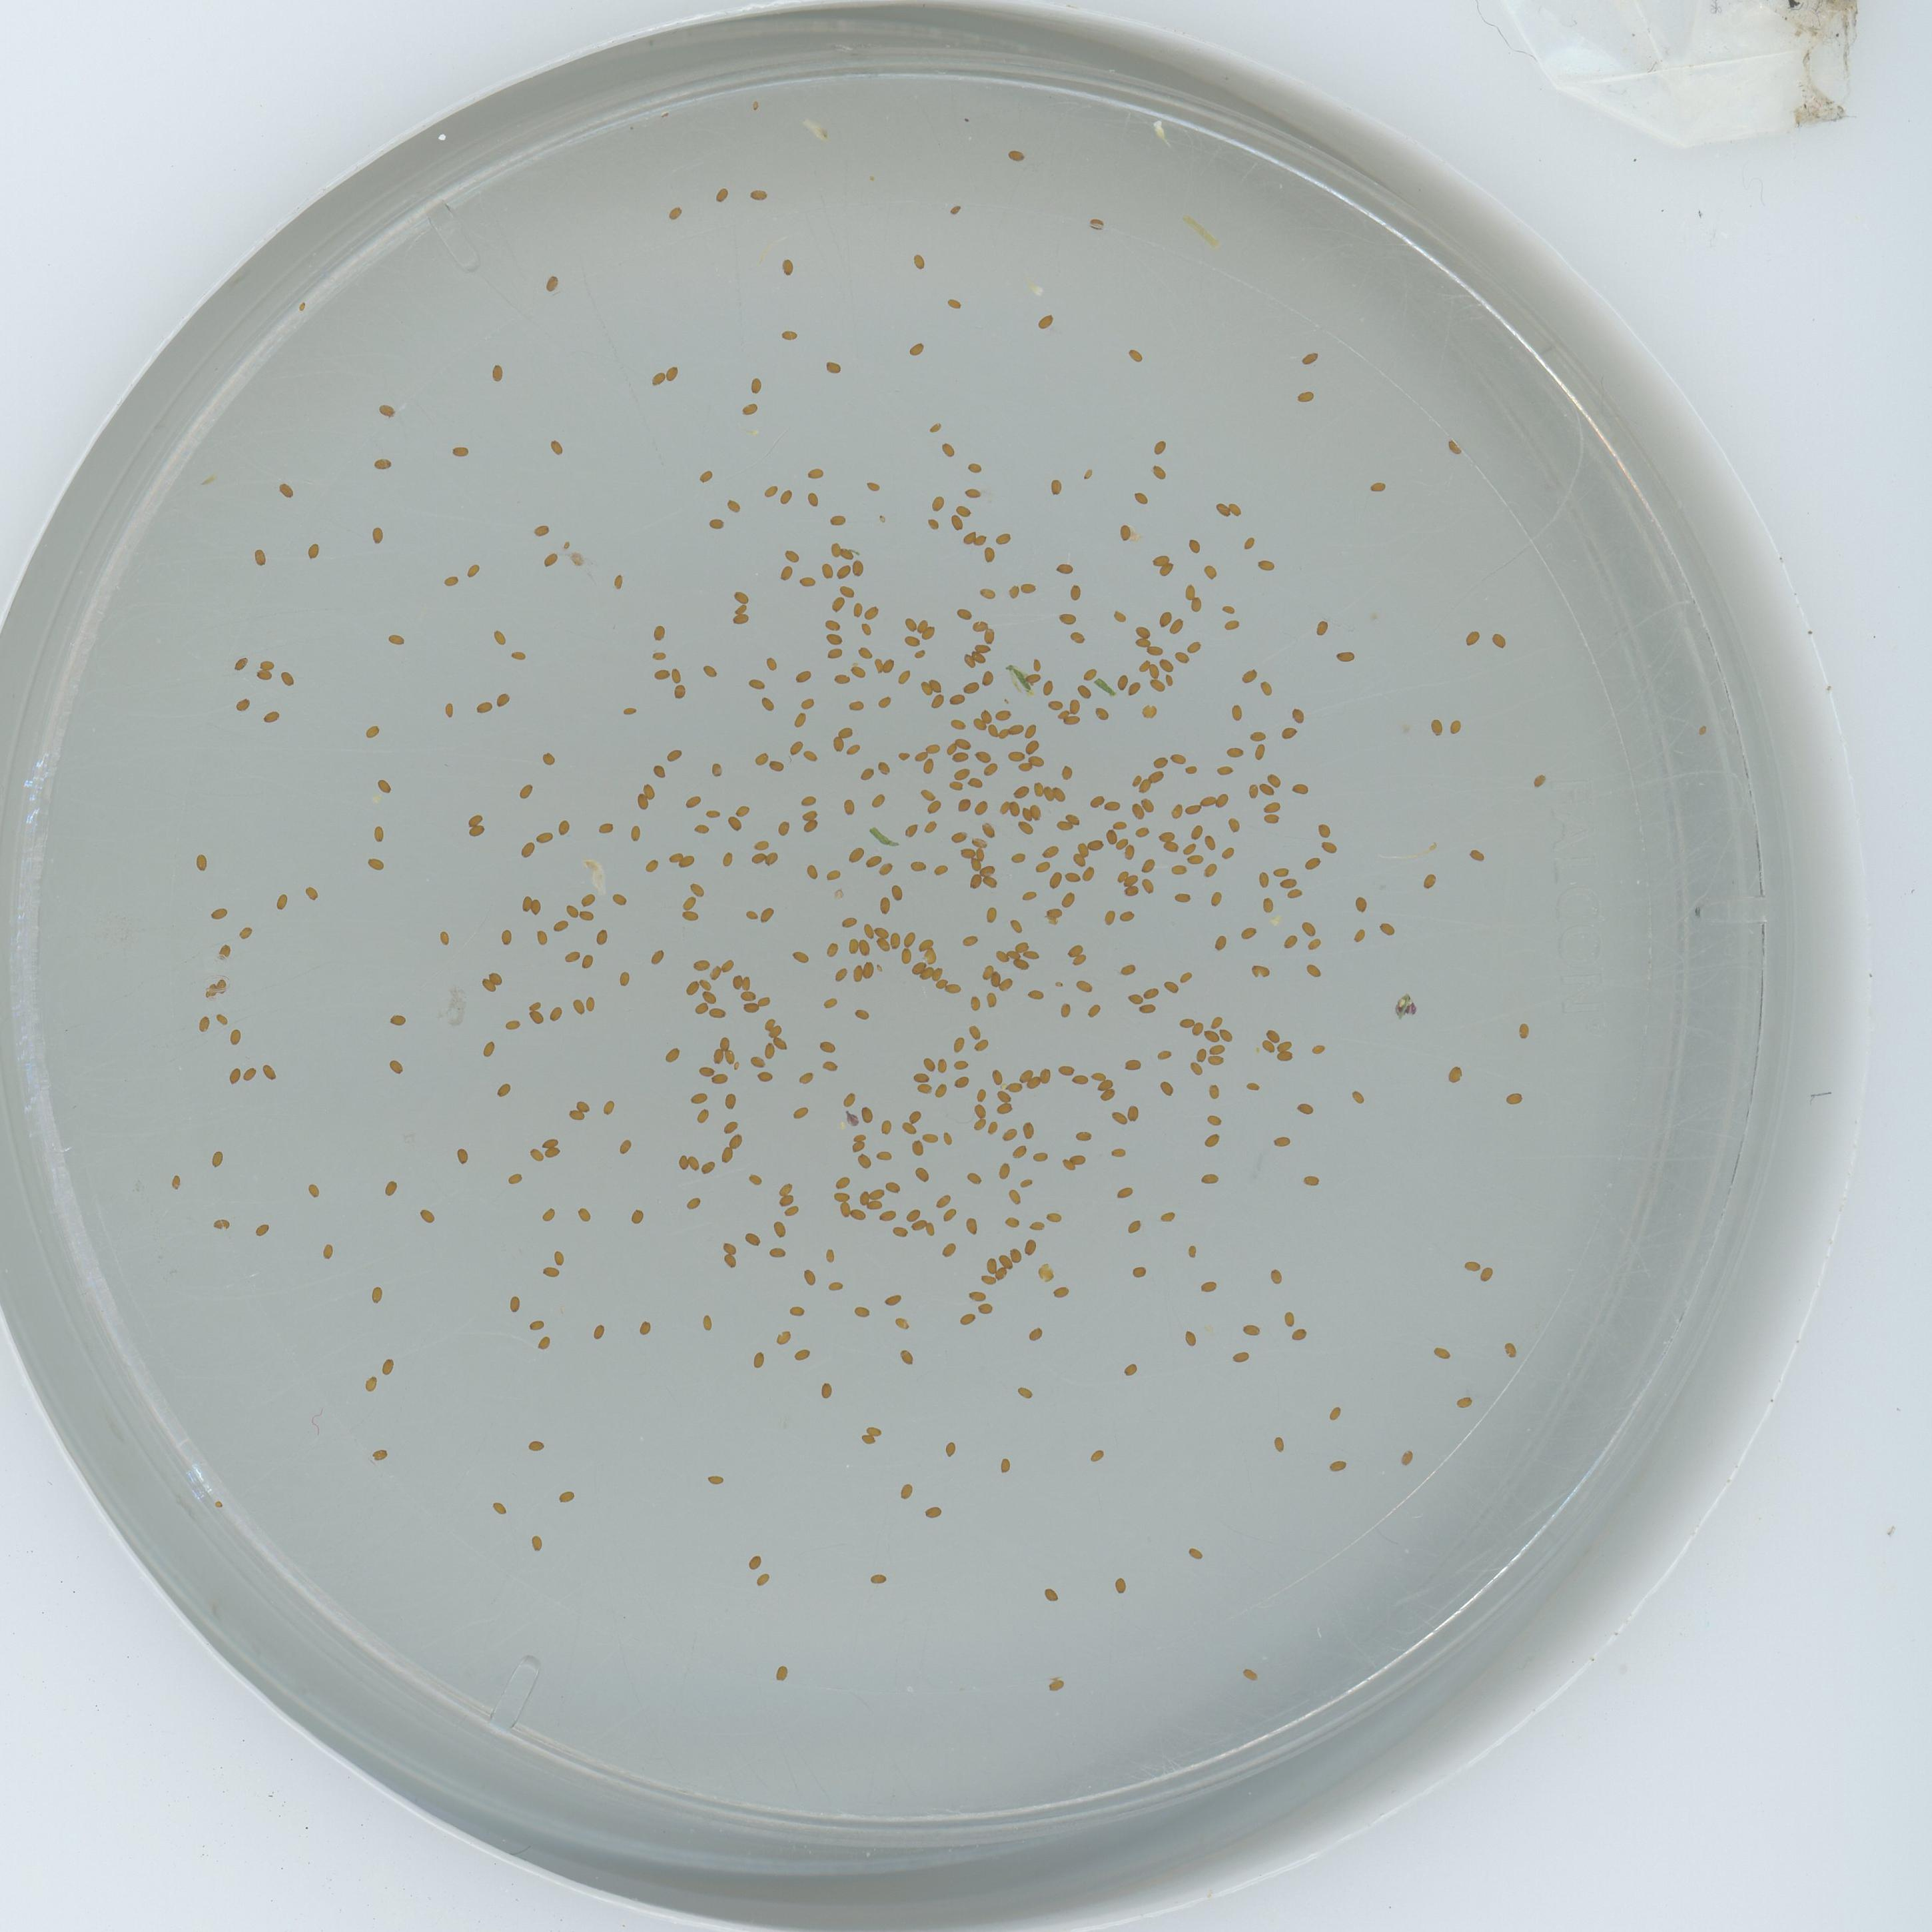seed: (589, 927, 612, 947), (207, 902, 228, 922), (847, 844, 867, 865), (800, 1265, 821, 1284), (1039, 840, 1060, 860), (1033, 1261, 1054, 1281), (747, 375, 766, 395), (842, 796, 862, 816), (978, 582, 998, 602), (1155, 1076, 1175, 1095), (1445, 1063, 1465, 1083), (248, 548, 269, 566), (518, 840, 538, 858), (750, 184, 770, 202), (929, 494, 947, 513), (191, 853, 209, 872), (865, 853, 885, 870), (876, 895, 895, 913), (844, 936, 862, 955), (488, 363, 506, 382), (771, 1217, 791, 1235), (885, 1290, 904, 1307), (775, 1327, 794, 1345), (479, 1037, 499, 1054), (380, 1178, 400, 1196), (993, 704, 1012, 722), (1056, 892, 1076, 909), (1463, 628, 1481, 648), (1300, 347, 1320, 364), (1318, 839, 1338, 856), (1090, 704, 1109, 722), (1139, 856, 1157, 876), (1010, 782, 1030, 800), (980, 821, 998, 840), (955, 605, 975, 623), (955, 798, 975, 816), (1123, 1100, 1141, 1120), (1108, 1108, 1127, 1125), (1198, 1276, 1217, 1293), (826, 648, 847, 663), (1155, 828, 1177, 844), (533, 520, 550, 538), (908, 338, 925, 356), (278, 669, 295, 686), (819, 561, 837, 579), (234, 695, 251, 713), (272, 893, 290, 911), (840, 913, 858, 931), (651, 623, 669, 640), (947, 690, 964, 708), (497, 927, 515, 945), (370, 824, 387, 842), (665, 747, 683, 764), (564, 947, 582, 964), (366, 855, 384, 872), (598, 819, 616, 837), (651, 947, 669, 964), (517, 782, 534, 800), (778, 487, 796, 504), (492, 628, 510, 646), (775, 819, 793, 837), (547, 437, 564, 455), (667, 202, 685, 219), (794, 1345, 812, 1362), (504, 1014, 522, 1031), (547, 1003, 564, 1021), (750, 1350, 768, 1368), (379, 1357, 396, 1375), (747, 1552, 764, 1569), (258, 1060, 276, 1077), (745, 1228, 763, 1246), (939, 1240, 957, 1258), (709, 1003, 727, 1021), (527, 1534, 545, 1552), (253, 1219, 271, 1237), (366, 1286, 384, 1304), (770, 1242, 787, 1260), (924, 1502, 941, 1520), (663, 1046, 681, 1063), (1247, 727, 1265, 745), (1200, 862, 1217, 879), (1067, 628, 1085, 646), (1428, 718, 1445, 736), (1288, 706, 1306, 724), (1265, 770, 1283, 787), (1258, 895, 1276, 913), (1228, 704, 1246, 722), (1304, 855, 1322, 872), (1180, 582, 1198, 600), (1054, 559, 1072, 577), (1295, 387, 1313, 405), (1062, 870, 1079, 888), (1150, 437, 1168, 455), (980, 547, 998, 564), (978, 669, 996, 686), (1313, 619, 1330, 637), (1115, 524, 1132, 541), (1281, 931, 1299, 948), (973, 747, 991, 764), (1421, 874, 1438, 892), (1185, 823, 1203, 840), (1111, 1576, 1129, 1594), (1010, 1141, 1028, 1159), (1205, 1081, 1223, 1099), (989, 1065, 1007, 1083), (996, 1161, 1014, 1178), (1123, 1056, 1141, 1074), (966, 993, 984, 1010), (1021, 1237, 1039, 1254), (1203, 1129, 1221, 1146), (1272, 1131, 1290, 1148), (1182, 1329, 1200, 1346), (1201, 1169, 1219, 1187), (984, 1116, 1001, 1134), (959, 1311, 977, 1329), (685, 794, 704, 810), (230, 656, 249, 672), (626, 826, 646, 842), (904, 1203, 924, 1219), (361, 1375, 380, 1391), (885, 1177, 904, 1192), (504, 1295, 524, 1311), (494, 1081, 513, 1097), (628, 1207, 648, 1223), (690, 1090, 709, 1106), (1224, 743, 1244, 759), (1200, 835, 1219, 851), (1336, 648, 1355, 663), (1327, 1458, 1346, 1474), (1049, 1283, 1069, 1299), (840, 582, 858, 598), (824, 616, 842, 632), (948, 717, 966, 732), (303, 885, 320, 901), (856, 644, 874, 660), (754, 837, 771, 853), (851, 663, 869, 679), (828, 513, 846, 529), (870, 793, 888, 809), (800, 695, 817, 711), (363, 724, 380, 740), (681, 895, 699, 911), (368, 527, 386, 543), (807, 464, 824, 479), (902, 931, 920, 947), (759, 906, 775, 924), (763, 483, 780, 499), (794, 947, 812, 962), (580, 892, 596, 909), (651, 763, 669, 778), (704, 807, 722, 823), (830, 596, 847, 612), (734, 801, 752, 817), (929, 694, 947, 709), (702, 663, 720, 679), (787, 740, 805, 755), (536, 830, 554, 846), (644, 858, 662, 874), (715, 186, 732, 202), (379, 400, 395, 418), (476, 699, 494, 715), (494, 692, 511, 708), (748, 676, 766, 692), (782, 257, 798, 274), (784, 547, 801, 563), (839, 724, 856, 740), (793, 713, 810, 729), (375, 778, 393, 794), (741, 400, 759, 416), (451, 442, 469, 458), (909, 858, 927, 874), (467, 812, 485, 828), (387, 632, 405, 648), (373, 455, 391, 471), (897, 669, 915, 685), (947, 515, 964, 531), (543, 274, 561, 290), (541, 550, 559, 566), (826, 632, 844, 648), (278, 481, 294, 499), (725, 817, 743, 833), (533, 929, 550, 945), (938, 441, 955, 456), (778, 564, 796, 580), (672, 683, 690, 699), (805, 490, 823, 506), (835, 564, 853, 580), (909, 253, 927, 269), (743, 906, 761, 922), (826, 939, 842, 957), (847, 743, 865, 759), (679, 853, 697, 869), (826, 540, 844, 556), (915, 747, 931, 764), (722, 1116, 740, 1132), (913, 1166, 931, 1182), (695, 1106, 713, 1122), (212, 1012, 230, 1028), (527, 1437, 545, 1453), (793, 1102, 810, 1118), (534, 1334, 552, 1350), (559, 1486, 575, 1504), (697, 1062, 715, 1077), (901, 1120, 918, 1136), (711, 1069, 729, 1085), (823, 994, 840, 1010), (708, 1047, 725, 1063), (908, 1108, 925, 1123), (755, 1571, 771, 1589), (908, 1139, 925, 1155), (241, 1063, 257, 1081), (872, 1571, 890, 1587), (775, 1665, 793, 1681), (934, 1191, 952, 1207), (591, 1322, 607, 1339), (757, 1069, 775, 1085), (897, 1483, 915, 1499), (862, 1104, 879, 1120), (541, 1263, 559, 1279), (819, 1382, 837, 1398), (372, 1445, 387, 1463), (225, 1065, 241, 1083), (418, 1207, 435, 1223), (211, 1214, 228, 1230), (702, 987, 720, 1003), (529, 1315, 545, 1332), (750, 1053, 768, 1069), (722, 1092, 740, 1108), (819, 1037, 837, 1053), (207, 1150, 225, 1166), (453, 1146, 471, 1162), (600, 1099, 617, 1115), (577, 1205, 593, 1223), (617, 1136, 635, 1152), (835, 1171, 853, 1187), (1003, 584, 1021, 600), (1173, 890, 1191, 906), (1168, 617, 1185, 633), (1019, 579, 1037, 594), (1023, 740, 1040, 755), (1279, 725, 1297, 741), (1157, 656, 1175, 672), (1134, 623, 1152, 639), (1219, 846, 1237, 862), (993, 529, 1010, 545), (1352, 895, 1369, 911), (1150, 464, 1166, 481), (1046, 478, 1063, 494), (1299, 920, 1316, 936), (1270, 863, 1288, 879), (1056, 610, 1074, 626), (1125, 345, 1143, 361), (1350, 927, 1368, 943), (1490, 632, 1507, 648), (1056, 764, 1074, 780), (1065, 586, 1083, 602), (1180, 840, 1198, 856), (1008, 851, 1026, 867), (1079, 665, 1097, 681), (1214, 793, 1231, 809), (1031, 860, 1049, 876), (1256, 556, 1274, 571), (1069, 853, 1086, 869), (1005, 748, 1023, 764), (1116, 908, 1134, 924), (1171, 651, 1189, 667), (1221, 617, 1238, 633), (980, 761, 998, 777), (1007, 147, 1024, 163), (1065, 941, 1083, 957), (1292, 780, 1309, 796), (1168, 750, 1185, 766), (980, 626, 998, 642), (1161, 842, 1178, 858), (1185, 853, 1203, 869), (1261, 800, 1279, 816), (1238, 667, 1256, 683), (1012, 936, 1030, 952), (1039, 679, 1056, 695), (1468, 847, 1486, 863), (1315, 823, 1332, 839), (984, 906, 1000, 924), (1155, 610, 1173, 626), (1212, 501, 1230, 517), (1007, 918, 1024, 934), (1139, 704, 1157, 720), (1046, 874, 1063, 890), (1224, 817, 1242, 833), (1212, 934, 1230, 950), (1063, 810, 1081, 826), (1258, 782, 1276, 798), (1102, 800, 1120, 816), (1304, 936, 1322, 952), (1445, 437, 1461, 455), (1115, 1182, 1132, 1198), (1398, 1449, 1415, 1465), (1207, 1012, 1224, 1028), (1019, 1120, 1037, 1136), (1026, 985, 1044, 1001), (1157, 1207, 1175, 1223), (1242, 1320, 1260, 1336), (1000, 1123, 1017, 1139), (1230, 1348, 1247, 1364), (975, 1300, 993, 1316), (1016, 1384, 1033, 1399), (1040, 1587, 1058, 1603), (1267, 1267, 1284, 1283), (1007, 1187, 1024, 1203), (1433, 1345, 1451, 1361), (996, 1456, 1014, 1472), (1131, 1263, 1148, 1279), (1506, 1088, 1523, 1104), (1058, 1062, 1076, 1077), (1205, 1109, 1223, 1125), (1479, 1265, 1495, 1283), (1295, 1099, 1313, 1115), (1270, 1435, 1286, 1453), (1072, 1072, 1090, 1088), (1302, 1171, 1320, 1187), (1069, 1150, 1086, 1166), (1026, 1323, 1042, 1341), (1046, 1675, 1063, 1691), (1309, 1037, 1325, 1054), (1086, 1447, 1104, 1463), (909, 961, 927, 977), (580, 952, 600, 966), (833, 1187, 853, 1201), (879, 1207, 899, 1221), (1168, 865, 1187, 879), (1150, 550, 1169, 564), (1145, 642, 1164, 656), (1122, 874, 1141, 888), (1146, 681, 1166, 695), (1046, 906, 1065, 920), (994, 1100, 1014, 1115), (801, 793, 817, 809), (708, 515, 724, 531), (651, 648, 667, 663), (764, 656, 780, 672), (699, 467, 715, 483), (235, 924, 251, 939), (860, 623, 876, 639), (441, 702, 456, 718), (878, 761, 893, 777), (904, 823, 920, 839), (860, 766, 876, 782), (556, 821, 571, 837), (943, 740, 959, 755), (867, 603, 883, 619), (709, 763, 725, 778), (853, 561, 869, 577), (766, 851, 782, 867), (304, 543, 320, 559), (796, 667, 812, 683), (610, 575, 626, 591), (734, 587, 750, 603), (899, 948, 915, 964), (867, 478, 883, 494), (924, 821, 939, 837), (952, 828, 968, 844), (832, 738, 847, 754), (805, 865, 821, 881), (690, 881, 706, 897), (665, 364, 681, 380), (633, 794, 649, 810), (754, 750, 770, 766), (890, 885, 906, 901), (800, 573, 816, 589), (849, 602, 865, 617), (510, 648, 525, 663), (761, 697, 777, 713), (826, 869, 842, 885), (932, 862, 948, 878), (925, 740, 941, 755), (580, 908, 596, 924), (782, 326, 798, 341), (651, 370, 667, 386), (669, 667, 685, 683), (893, 1223, 909, 1238), (193, 1016, 209, 1031), (941, 1440, 957, 1456), (304, 1182, 320, 1198), (855, 1005, 870, 1021), (858, 1152, 874, 1168), (529, 1008, 545, 1024), (318, 1242, 334, 1258), (389, 1010, 405, 1026), (824, 1247, 840, 1263), (637, 1318, 653, 1334), (226, 1028, 242, 1044), (869, 1419, 885, 1435), (541, 1207, 557, 1223), (922, 1056, 938, 1072), (492, 1499, 508, 1514), (778, 1178, 794, 1194), (490, 970, 506, 985), (720, 1146, 736, 1162), (842, 1088, 858, 1104), (550, 1249, 566, 1265), (789, 1302, 805, 1318), (584, 994, 600, 1010), (387, 1056, 403, 1072), (685, 978, 701, 994), (508, 1169, 524, 1185), (941, 1207, 957, 1223), (899, 1348, 915, 1364), (722, 1253, 738, 1269), (934, 1083, 950, 1099), (828, 1276, 844, 1292), (674, 1155, 690, 1171), (924, 1219, 939, 1235), (708, 1470, 724, 1486), (701, 1315, 717, 1330), (920, 966, 936, 982), (1021, 888, 1037, 904), (1201, 563, 1217, 579), (1185, 639, 1201, 655), (1219, 602, 1235, 617), (1185, 538, 1201, 554), (1168, 803, 1184, 819), (1139, 879, 1155, 895), (1023, 724, 1039, 740), (1100, 909, 1116, 925), (1378, 920, 1394, 936), (1037, 311, 1053, 327), (1079, 867, 1095, 883), (1254, 872, 1270, 888), (1111, 609, 1127, 625), (1017, 821, 1033, 837), (1369, 478, 1385, 494), (1447, 718, 1463, 734), (1200, 793, 1215, 809), (1113, 674, 1129, 690), (1253, 745, 1269, 761), (1088, 793, 1104, 809), (973, 800, 989, 816), (1134, 658, 1150, 674), (1240, 924, 1256, 939), (1131, 488, 1146, 504), (1088, 837, 1104, 853), (1007, 720, 1023, 736), (1129, 803, 1145, 819), (966, 874, 982, 890), (1184, 801, 1200, 817), (1127, 681, 1143, 697), (1244, 784, 1260, 800), (1086, 214, 1102, 230), (1053, 786, 1069, 801), (1530, 773, 1546, 789), (1111, 869, 1127, 885), (1463, 1256, 1479, 1272), (1281, 1309, 1297, 1325), (998, 975, 1014, 991), (1017, 1173, 1033, 1189), (968, 1024, 984, 1040), (1085, 1001, 1100, 1017), (1187, 1060, 1203, 1076), (1187, 1545, 1203, 1560), (1456, 1392, 1472, 1408), (1026, 1217, 1042, 1233), (1122, 1361, 1138, 1376), (1516, 1021, 1532, 1037), (1109, 1143, 1125, 1159), (1327, 1405, 1343, 1421), (971, 1100, 987, 1116), (970, 1284, 985, 1300), (1350, 1088, 1366, 1104), (1125, 1217, 1141, 1233), (1290, 1325, 1306, 1341), (966, 1169, 982, 1185), (1026, 1074, 1042, 1090), (1502, 1341, 1518, 1357), (1242, 1665, 1258, 1681), (878, 863, 895, 878), (610, 893, 628, 908), (442, 573, 460, 587), (803, 821, 821, 835), (653, 667, 671, 681), (824, 359, 842, 373), (262, 709, 280, 724), (840, 545, 858, 559), (732, 612, 750, 626), (740, 989, 757, 1003), (543, 1136, 561, 1150), (895, 1316, 913, 1330), (722, 1238, 740, 1253), (823, 1058, 840, 1072), (747, 1171, 764, 1185), (743, 1000, 761, 1014), (878, 1146, 895, 1161), (853, 1141, 870, 1155), (851, 1207, 869, 1221), (800, 1069, 817, 1083), (855, 1304, 872, 1318), (685, 1194, 702, 1208), (950, 1037, 964, 1054), (862, 962, 876, 980), (1148, 771, 1166, 786), (1122, 886, 1139, 901), (1046, 697, 1063, 711), (1150, 754, 1168, 768), (1074, 683, 1092, 697), (1187, 598, 1205, 612), (1111, 817, 1129, 832), (1132, 637, 1150, 651), (962, 529, 977, 547), (1012, 957, 1030, 971), (1161, 978, 1178, 993), (1138, 1001, 1155, 1016), (1019, 1065, 1033, 1083), (1276, 1047, 1293, 1062), (1258, 1039, 1276, 1053), (1030, 1148, 1047, 1162), (1244, 1077, 1261, 1092), (1056, 1157, 1074, 1171), (1693, 724, 1711, 738), (1005, 948, 1023, 962), (961, 844, 975, 862), (1030, 805, 1044, 823), (993, 1088, 1012, 1100), (720, 853, 736, 867), (947, 295, 962, 310), (849, 699, 865, 713), (801, 809, 817, 823), (904, 633, 920, 648), (750, 853, 766, 867), (925, 517, 941, 531), (541, 752, 557, 766), (878, 695, 893, 709), (683, 911, 699, 925), (258, 656, 274, 671), (902, 617, 918, 632), (927, 419, 941, 435), (947, 780, 962, 794), (925, 801, 941, 816), (725, 499, 741, 513), (644, 782, 658, 798), (564, 904, 580, 918), (437, 931, 453, 945), (554, 918, 570, 932), (531, 899, 545, 915), (803, 750, 819, 764), (464, 563, 479, 577), (770, 759, 786, 773), (694, 823, 709, 837), (920, 787, 936, 801), (931, 678, 945, 694), (255, 671, 271, 685), (216, 943, 232, 957), (925, 948, 941, 962), (885, 658, 899, 674), (918, 681, 934, 695), (835, 672, 851, 686), (667, 849, 683, 863), (954, 766, 970, 780), (897, 750, 913, 764), (862, 922, 876, 938), (952, 750, 968, 764), (876, 924, 890, 939), (623, 704, 639, 718), (890, 931, 904, 947), (732, 603, 748, 617), (469, 826, 485, 840), (922, 759, 936, 775), (911, 648, 927, 662), (920, 626, 936, 640), (913, 1070, 929, 1085), (694, 1000, 709, 1014), (527, 996, 543, 1010), (916, 1083, 932, 1097), (718, 1033, 734, 1047), (729, 975, 743, 991), (479, 977, 495, 991), (708, 966, 724, 980), (763, 1042, 778, 1056), (577, 1099, 593, 1113), (570, 998, 584, 1014), (881, 1118, 897, 1132), (924, 1129, 939, 1143), (529, 1146, 545, 1161), (568, 1108, 584, 1122), (955, 1074, 970, 1090), (702, 1157, 718, 1171), (617, 971, 633, 985), (775, 1035, 791, 1049), (936, 1056, 950, 1072), (939, 1132, 955, 1146), (729, 1132, 745, 1146), (837, 1203, 853, 1217), (851, 966, 865, 982), (688, 1155, 702, 1171), (168, 1173, 182, 1189), (780, 1192, 796, 1207), (934, 977, 950, 991), (202, 984, 216, 1000), (1215, 764, 1231, 778), (1141, 798, 1157, 812), (1240, 536, 1256, 550), (1132, 826, 1148, 840), (1100, 830, 1116, 844), (1207, 893, 1223, 908), (1258, 681, 1274, 695), (966, 460, 982, 474), (966, 487, 982, 501), (1263, 814, 1279, 828), (1182, 763, 1198, 777), (966, 777, 982, 791), (1067, 699, 1083, 713), (1028, 656, 1044, 671), (993, 950, 1008, 964), (1228, 501, 1244, 515), (970, 718, 985, 732), (971, 617, 987, 632), (1028, 754, 1044, 768), (1077, 465, 1093, 479), (1129, 773, 1143, 789), (1031, 782, 1046, 798), (1040, 786, 1056, 800), (970, 835, 985, 849), (1122, 846, 1138, 860), (978, 708, 993, 724), (1191, 1047, 1207, 1062), (1056, 1003, 1072, 1017), (1074, 978, 1090, 993), (1003, 1214, 1019, 1228), (1039, 1067, 1053, 1083), (1141, 984, 1157, 998), (1304, 966, 1320, 980), (1207, 1053, 1223, 1067), (1074, 1127, 1090, 1141), (1177, 970, 1192, 984), (1044, 1208, 1060, 1223), (980, 1272, 996, 1286), (1265, 1026, 1281, 1040), (1185, 1246, 1201, 1260), (1125, 991, 1141, 1005), (985, 993, 1001, 1007), (973, 1037, 989, 1051), (1253, 964, 1269, 978), (966, 1217, 980, 1233), (1155, 1046, 1171, 1060), (1177, 1014, 1192, 1028), (1090, 1069, 1106, 1083), (998, 1253, 1012, 1269), (1008, 1247, 1023, 1263), (980, 966, 996, 980), (971, 649, 985, 665), (996, 801, 1012, 816), (518, 895, 531, 913), (918, 936, 936, 948), (1279, 878, 1297, 890), (1053, 821, 1070, 833), (1286, 888, 1304, 901), (1070, 954, 1088, 966), (1207, 1042, 1224, 1054), (1276, 1039, 1293, 1051), (1060, 715, 1079, 725), (952, 502, 966, 517), (720, 959, 734, 973), (948, 202, 962, 216), (759, 993, 773, 1007), (947, 980, 961, 994), (833, 968, 847, 982), (761, 1017, 775, 1031), (872, 1184, 886, 1198), (209, 1497, 223, 1511), (741, 977, 755, 991), (1146, 665, 1161, 679), (982, 863, 996, 878), (975, 531, 989, 545), (966, 932, 980, 947), (966, 679, 980, 694), (1161, 674, 1175, 688), (970, 858, 984, 872), (1115, 837, 1129, 851), (975, 642, 989, 656), (973, 1086, 987, 1100), (1189, 1021, 1203, 1035), (982, 1256, 996, 1270), (1219, 1028, 1233, 1042), (931, 966, 945, 980), (858, 939, 870, 955), (955, 738, 971, 750), (876, 939, 892, 952), (869, 1196, 885, 1208), (786, 1205, 801, 1217), (699, 977, 715, 989), (911, 1219, 927, 1231), (545, 1148, 561, 1161), (954, 1060, 970, 1072), (770, 1026, 786, 1039), (1017, 761, 1033, 773), (1024, 672, 1040, 685), (1157, 564, 1173, 577), (1024, 948, 1040, 961), (1007, 1079, 1023, 1092), (1203, 1030, 1219, 1042), (971, 1118, 987, 1131), (1099, 1090, 1115, 1102), (989, 970, 1001, 985), (750, 97, 763, 113), (962, 653, 975, 669), (860, 1435, 878, 1445), (1118, 966, 1136, 977), (872, 658, 885, 672), (916, 619, 931, 632), (214, 978, 228, 991), (724, 1047, 738, 1060), (731, 1058, 745, 1070), (984, 878, 998, 890), (1023, 809, 1035, 823), (987, 724, 1000, 738), (1074, 842, 1088, 855), (1136, 780, 1150, 793), (994, 1265, 1007, 1279), (295, 299, 308, 313), (694, 957, 713, 966), (853, 1131, 869, 1141), (1054, 709, 1070, 720), (1097, 1079, 1113, 1090), (975, 849, 987, 862), (878, 513, 890, 525), (860, 1191, 870, 1205), (998, 727, 1008, 741), (1010, 801, 1019, 817), (1053, 978, 1065, 989)
